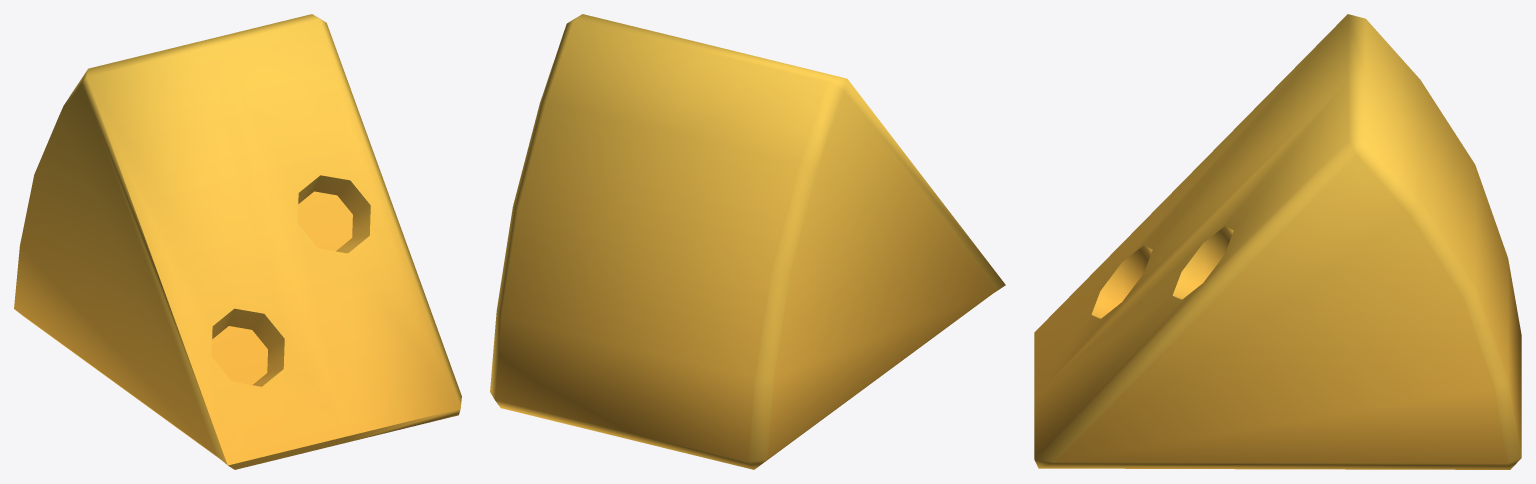
3 renders of one model, left to right at view 1: azimuth 30°, elevation 25°; view 2: azimuth 150°, elevation 25°; view 3: azimuth 270°, elevation 25°, orthographic. The views are drawn at different scales.
Parts seen in each view (by area): view 1: cheese_A; view 2: cheese_A; view 3: cheese_A.
Boxes of the visible parts, <box> form: cheese_A: <box>14,14,461,469</box>; cheese_A: <box>490,14,1005,469</box>; cheese_A: <box>1034,14,1521,469</box>.
Bounding box in the file's own units: 24.28 × 27.97 × 37.51.
Materials: 1 (1 with a texture image).
